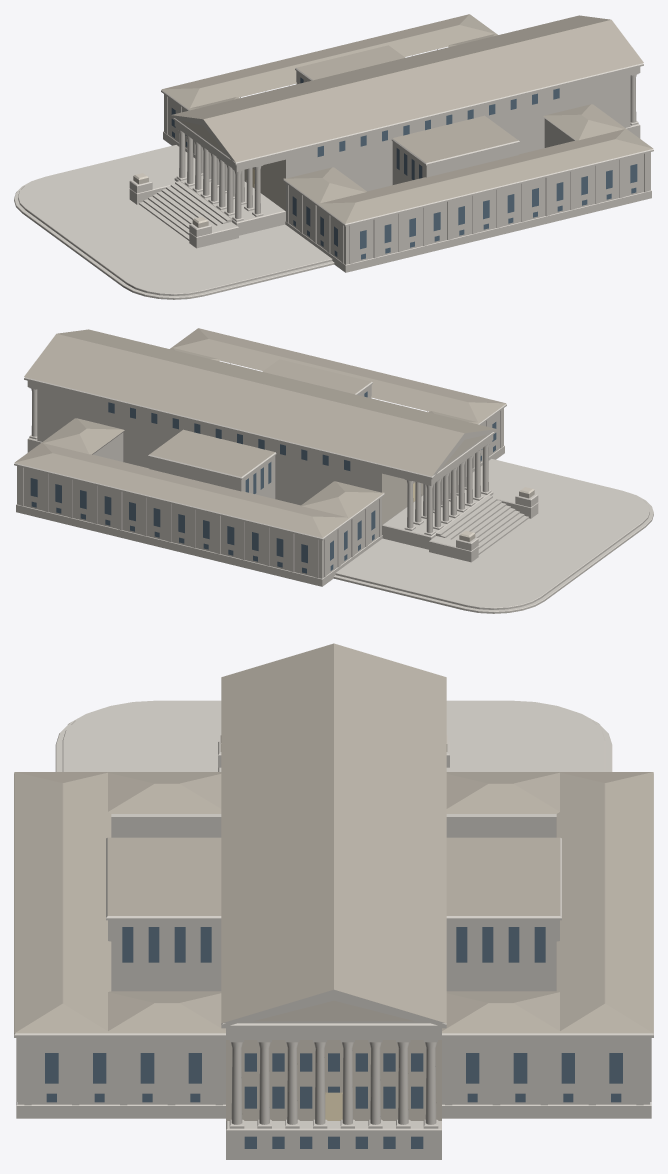
The model's file is dc-supreme-court.glb.
3 renders of one model, top to bottom at view 1: azimuth 30°, elevation 25°; view 2: azimuth 150°, elevation 25°; view 3: azimuth 270°, elevation 25°, orthographic. The views are drawn at different scales.
Parts seen in each view (by area): view 1: Supreme Court of the United States; view 2: Supreme Court of the United States; view 3: Supreme Court of the United States.
Part boxes in pixels (<box>): Supreme Court of the United States: <box>14,14,653,299</box>; Supreme Court of the United States: <box>14,328,653,613</box>; Supreme Court of the United States: <box>14,643,653,1159</box>.
Size of the model in its own units: 160 by 28.05 by 94.3.
